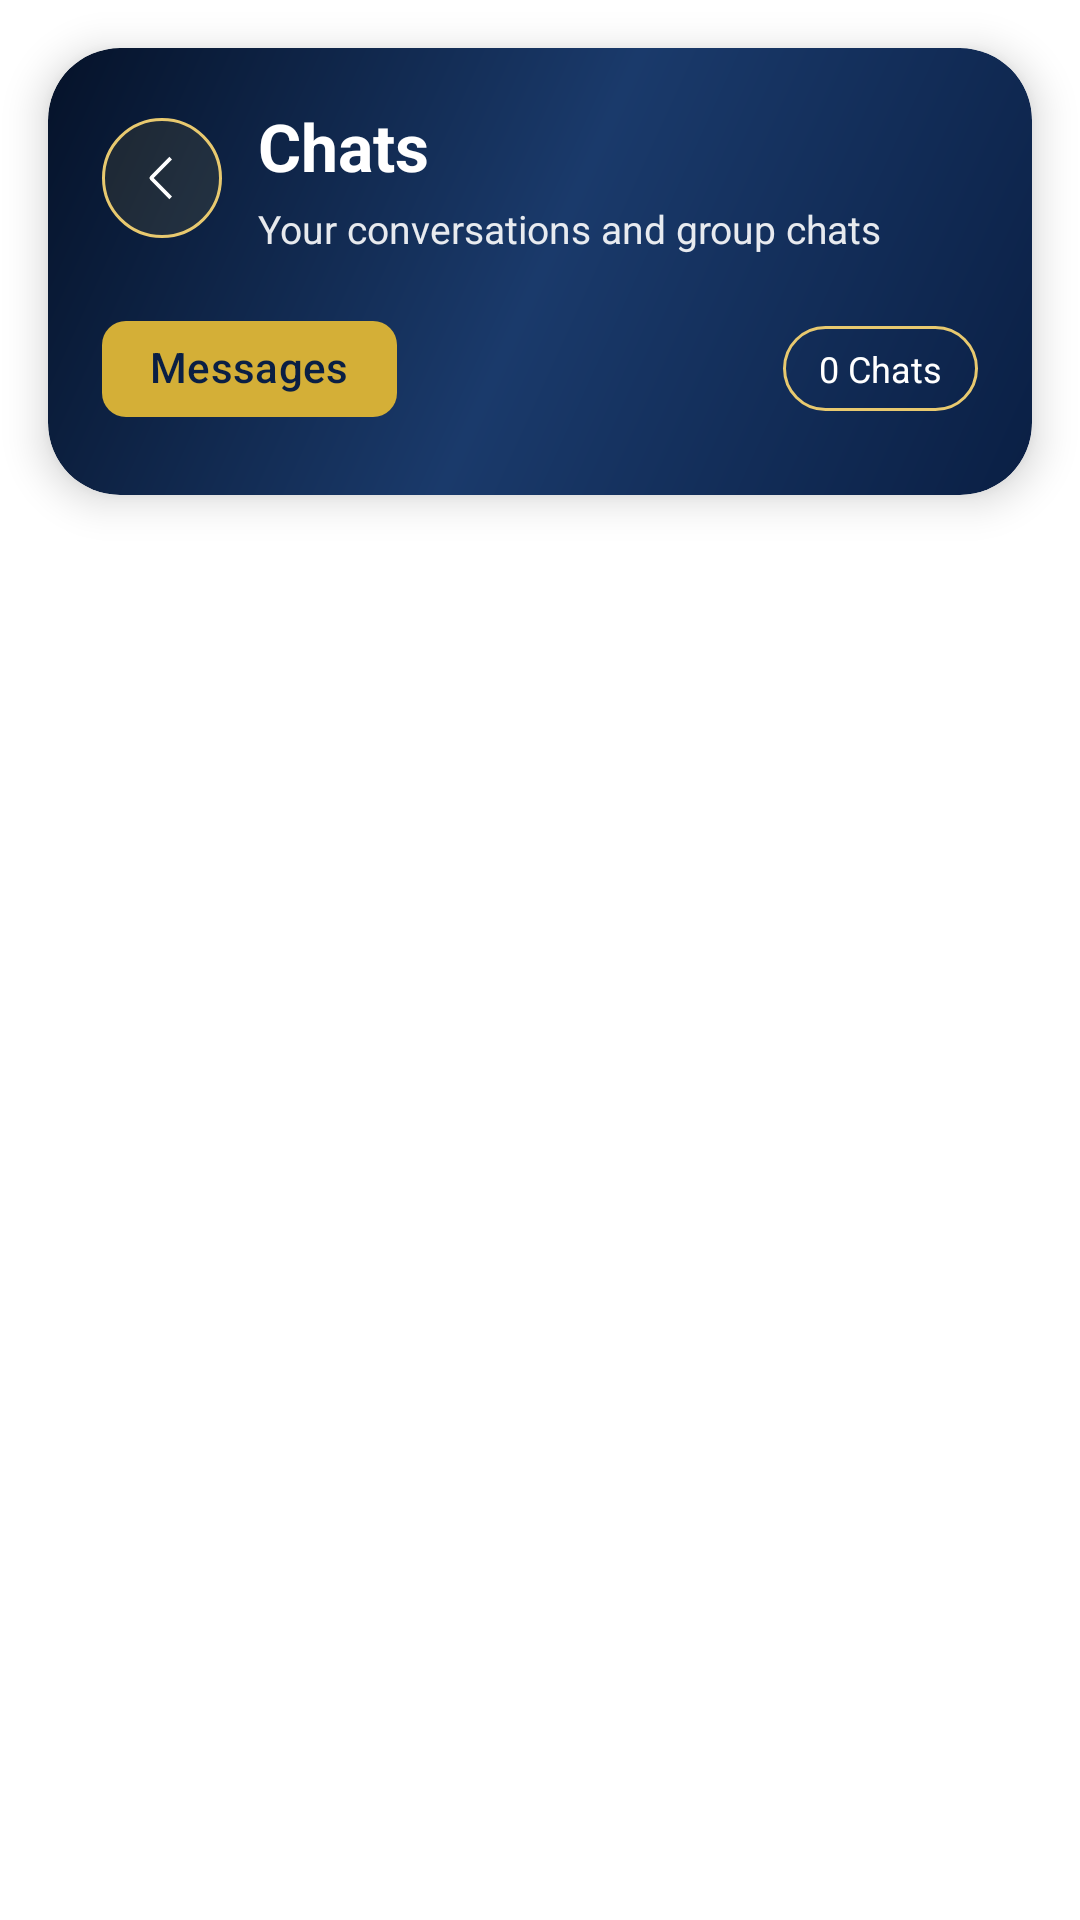

Icon bounding boxes for this 1080px x 1920px phone screenshot, format detection(x1, y1, x2, y2):
Back Button: detection(102, 118, 222, 238)
